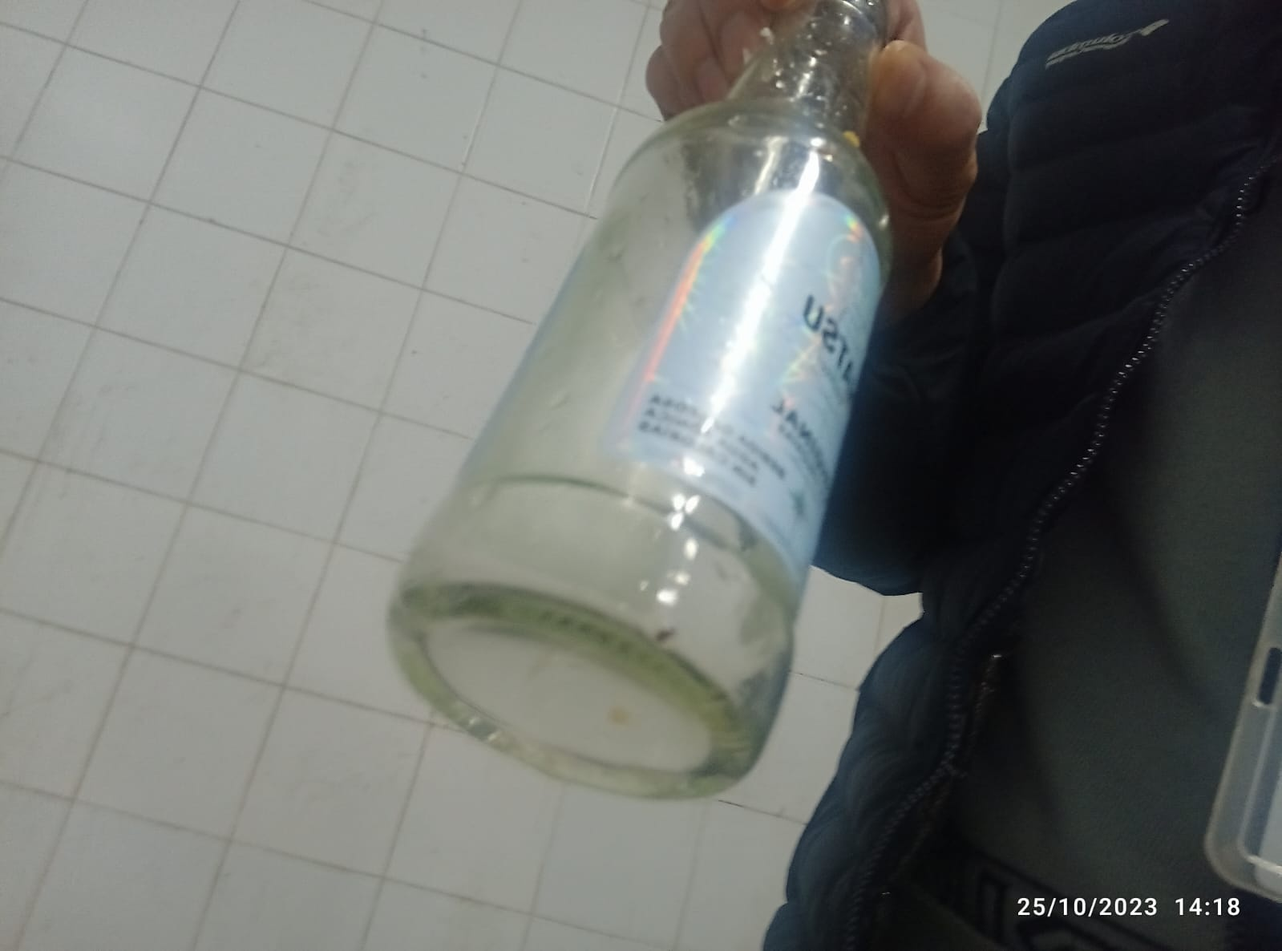Vidrio: (381, 0, 898, 798)
